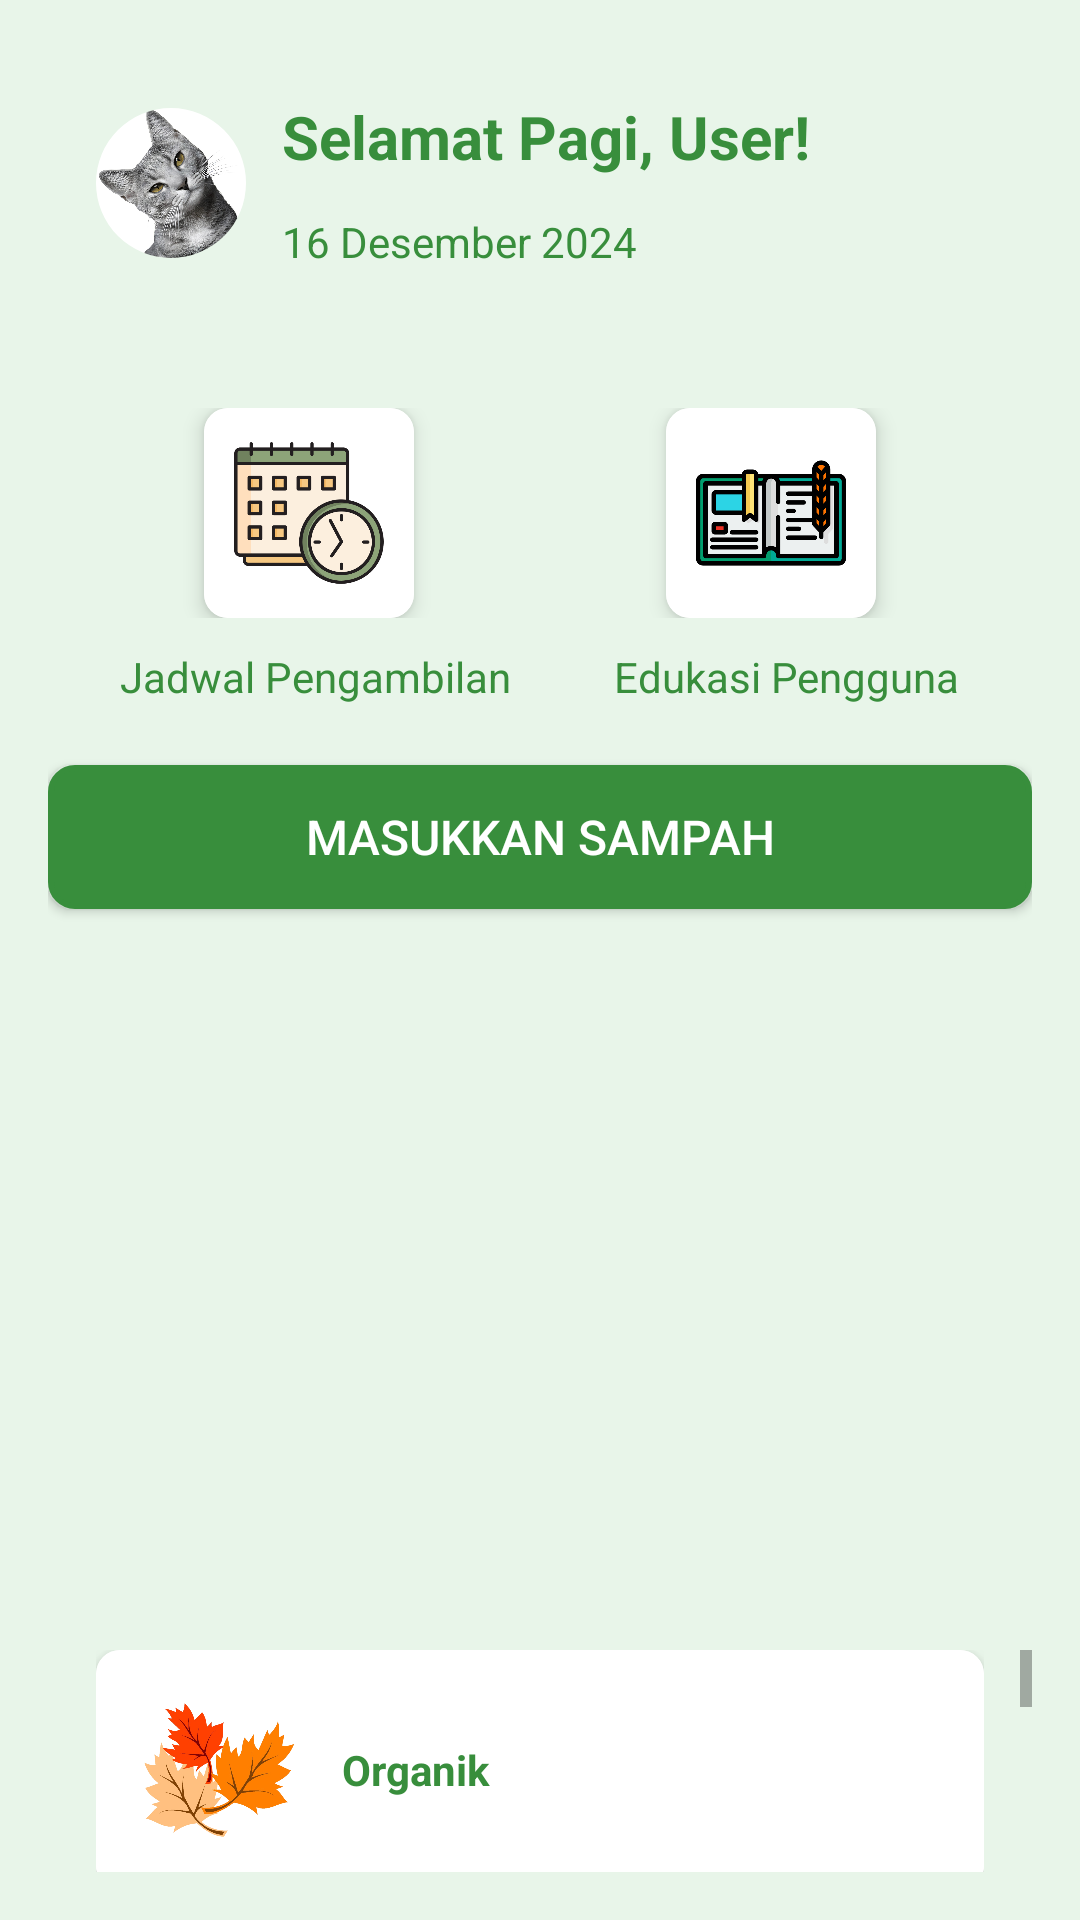

Icons on this 1080×1920 Android screen, each with the point to tap as (x,y):
Profile Picture: (171,183)
